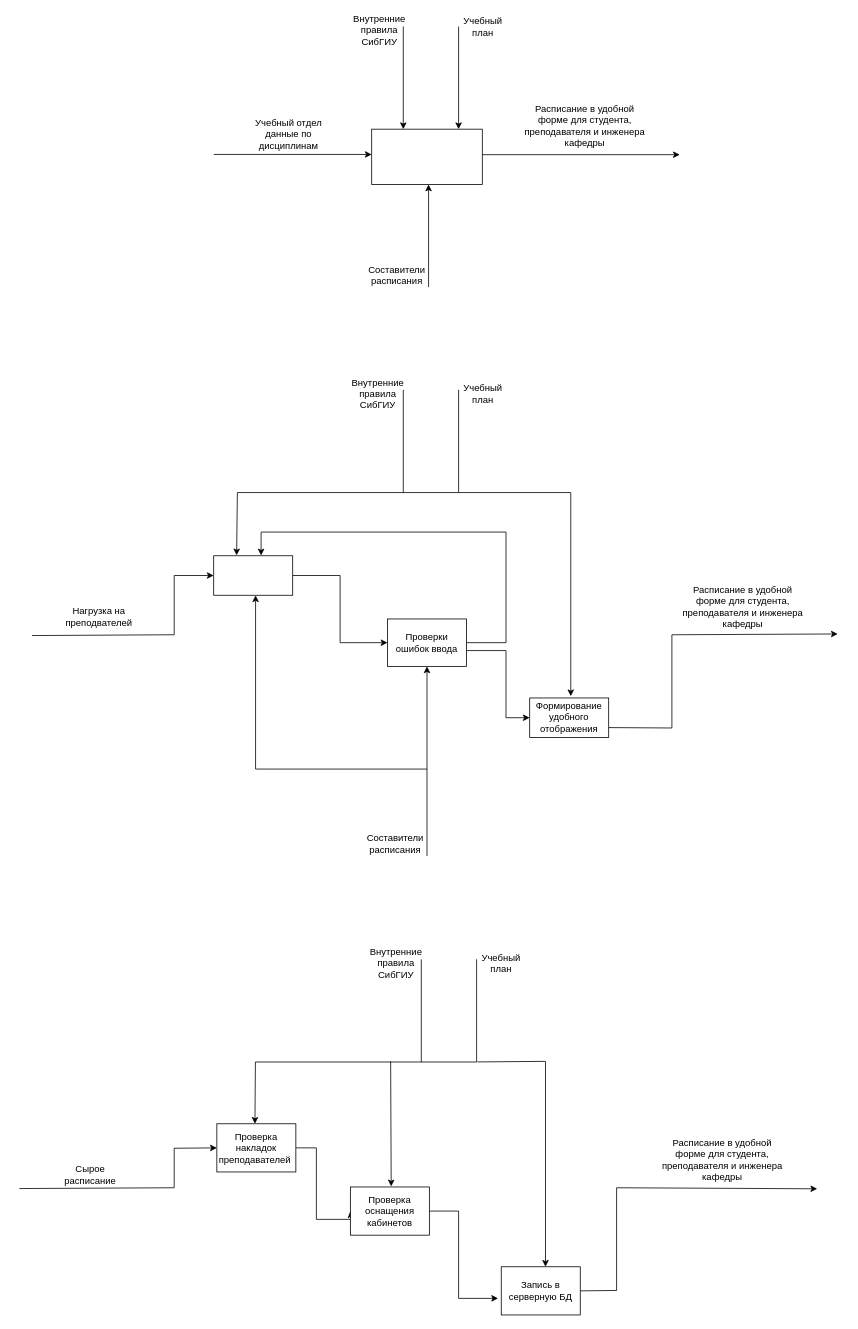
This 858x1329 diagram has some shape labels left out. The shapes that lost their labels are listed below. From the top down, each one's centre as x and y in pixels, then its label:
At pixel 426 156: "Составление расписания и удобный просмотр".
At pixel 253 575: "Ручной ввод расписания".
